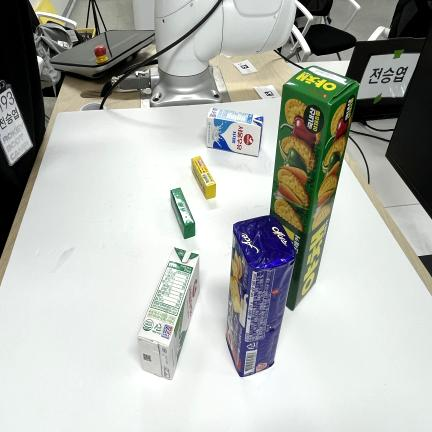cracker_ace: (226, 215, 296, 377)
cracker_vege: (270, 66, 359, 310)
gum_green: (170, 188, 195, 239)
gum_yellow: (191, 156, 216, 199)
milk_blue: (206, 108, 263, 156)
milk_green: (138, 248, 200, 379)
